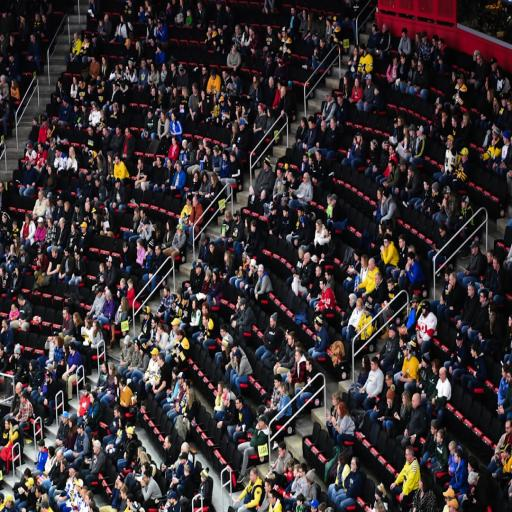face: (135, 112, 149, 218), (88, 105, 96, 136), (412, 394, 420, 408), (448, 274, 456, 286), (406, 451, 414, 463), (350, 459, 357, 472), (56, 450, 63, 462), (384, 143, 393, 152), (385, 376, 393, 386), (505, 421, 511, 434), (468, 286, 475, 297), (493, 258, 499, 270), (316, 220, 322, 232), (506, 99, 512, 111), (468, 463, 476, 472), (157, 323, 163, 335), (403, 345, 409, 357), (93, 444, 100, 454), (250, 472, 257, 482), (270, 495, 276, 506), (375, 274, 381, 285), (356, 133, 362, 144), (265, 482, 271, 493), (330, 118, 336, 129), (295, 351, 301, 362), (432, 363, 438, 374), (258, 421, 265, 430), (371, 362, 378, 371), (304, 253, 310, 263), (288, 336, 294, 346), (316, 267, 322, 277), (487, 90, 492, 102), (16, 384, 22, 394), (457, 337, 463, 347), (471, 348, 477, 358), (236, 400, 242, 410), (102, 363, 108, 373), (102, 127, 108, 137), (306, 361, 312, 371), (360, 47, 367, 55), (269, 77, 274, 88), (442, 111, 447, 122), (36, 488, 41, 499), (487, 252, 492, 263), (369, 259, 374, 270), (192, 197, 198, 206), (476, 55, 482, 64), (397, 117, 403, 126), (157, 158, 163, 167), (399, 239, 405, 248), (496, 68, 501, 78), (277, 169, 282, 179), (353, 47, 358, 57), (377, 191, 382, 201), (375, 491, 380, 501), (78, 425, 83, 435), (232, 124, 237, 134), (298, 208, 303, 218), (338, 95, 343, 105), (47, 217, 52, 227), (455, 453, 460, 463), (308, 156, 313, 166), (316, 151, 321, 161), (471, 247, 478, 254), (503, 138, 510, 145), (365, 309, 371, 317), (114, 410, 120, 418), (332, 397, 338, 405), (293, 468, 299, 476), (436, 102, 442, 110), (298, 468, 304, 476), (502, 367, 506, 379), (158, 359, 164, 367), (507, 372, 511, 384), (387, 283, 393, 291), (239, 123, 245, 131), (275, 380, 281, 388), (121, 491, 127, 499), (178, 378, 183, 387), (211, 69, 216, 78), (2, 320, 7, 329), (258, 106, 263, 115), (196, 266, 201, 275), (231, 45, 236, 54), (202, 306, 207, 315), (156, 246, 161, 255), (164, 288, 169, 297), (387, 398, 392, 407), (393, 57, 398, 66), (38, 143, 43, 152), (267, 25, 272, 34), (432, 186, 437, 195), (61, 461, 66, 470), (508, 316, 512, 327), (437, 432, 441, 443), (449, 505, 456, 511), (62, 416, 68, 423), (357, 303, 363, 310), (144, 476, 149, 484), (384, 239, 389, 247), (408, 169, 412, 179), (309, 121, 314, 129), (5, 420, 9, 430), (218, 383, 222, 393), (160, 112, 165, 120), (212, 273, 217, 281), (79, 80, 84, 88), (422, 36, 427, 44), (10, 244, 15, 252), (492, 63, 497, 71), (198, 2, 202, 11), (183, 140, 187, 149), (152, 320, 156, 329), (210, 244, 214, 253), (60, 220, 64, 229), (42, 14, 46, 23), (234, 217, 240, 223), (125, 128, 129, 137), (452, 118, 456, 127), (462, 202, 467, 209), (402, 32, 407, 39), (141, 61, 146, 68), (408, 258, 413, 265), (30, 35, 35, 42), (222, 153, 227, 160), (21, 397, 26, 404), (283, 210, 288, 217), (202, 67, 207, 74), (81, 226, 86, 233), (56, 150, 61, 157), (366, 79, 371, 86), (419, 479, 422, 490), (291, 7, 295, 15), (355, 79, 359, 87), (73, 77, 77, 85), (431, 426, 435, 434), (35, 13, 39, 21), (301, 119, 305, 127), (115, 156, 119, 164), (282, 31, 286, 39), (171, 112, 175, 120), (127, 499, 131, 507), (70, 348, 75, 354), (372, 25, 377, 31), (9, 55, 14, 61), (152, 355, 157, 361), (409, 130, 414, 136), (148, 111, 152, 118), (320, 40, 324, 47), (251, 224, 255, 231), (172, 138, 176, 145), (102, 57, 106, 64), (63, 311, 67, 318), (120, 15, 124, 22), (211, 176, 214, 185), (128, 283, 132, 289), (0, 268, 3, 275), (92, 57, 96, 62)
